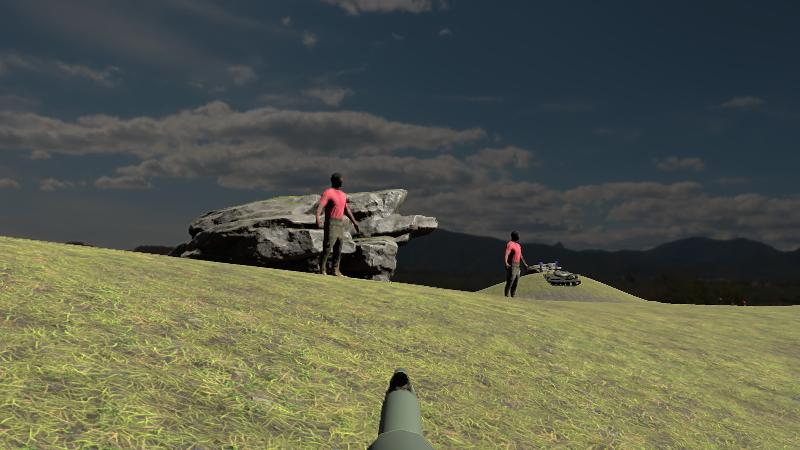Human: (316, 171, 359, 278), (505, 229, 528, 309)
Tank: (542, 267, 594, 288)
